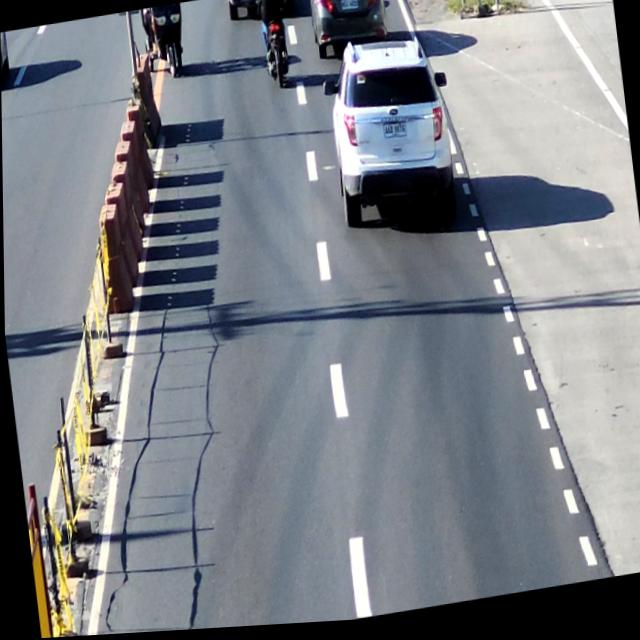Car: (325, 34, 459, 242), (306, 0, 393, 58)
License-Plate: (381, 124, 408, 149)
Motorcycle: (253, 0, 300, 97)
